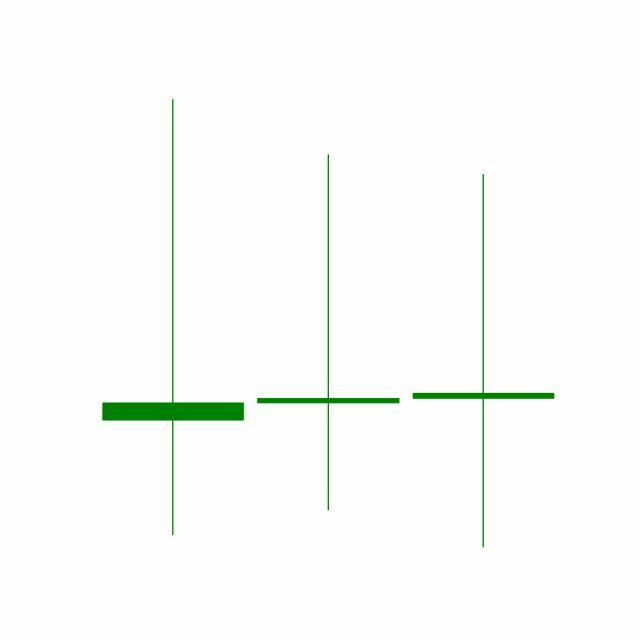Spinning Top: (406, 170, 562, 552)
